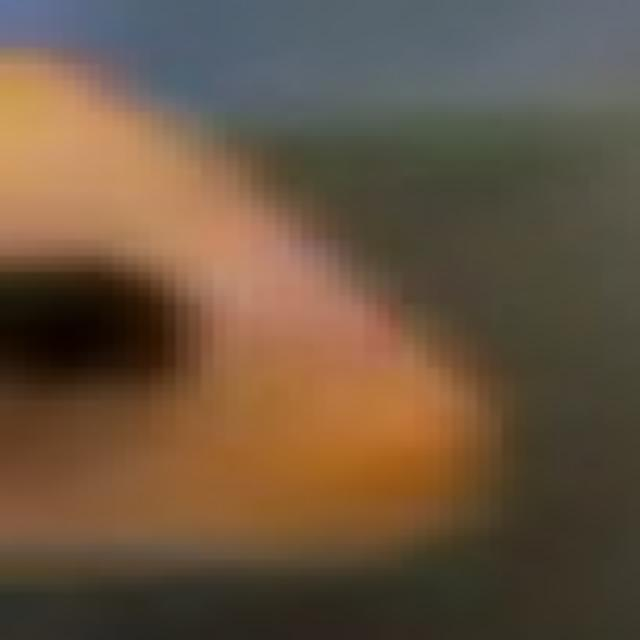fish: (12, 8, 640, 640)
